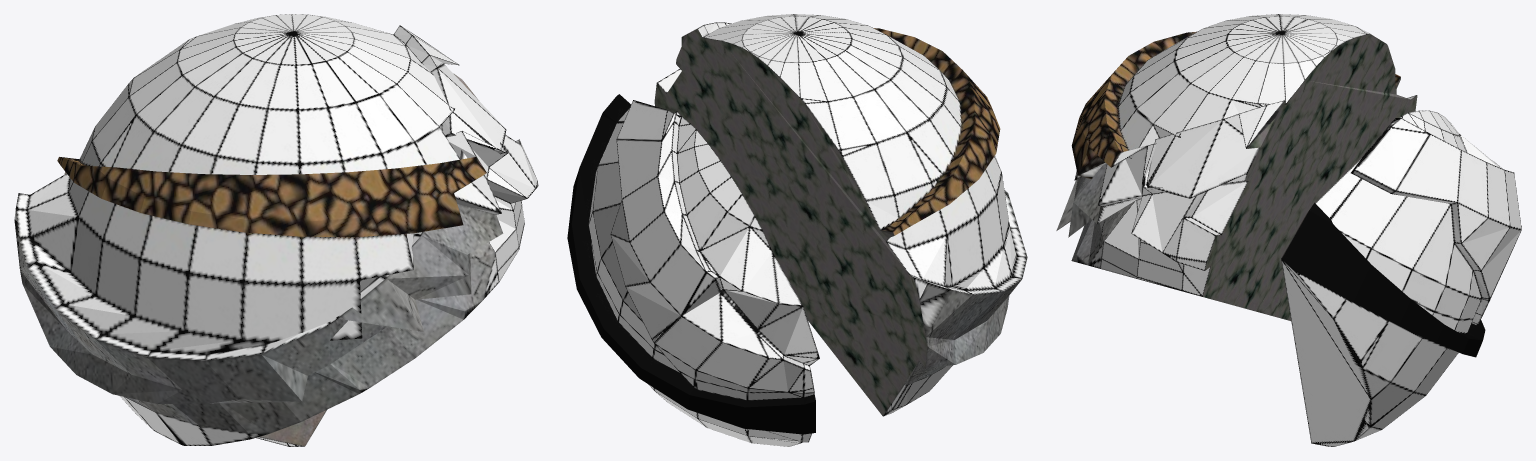
The model's file is LinkPirateria.gltf.
3 views of the same model, side by side, from view 1: azimuth 30°, elevation 25°; view 2: azimuth 150°, elevation 25°; view 3: azimuth 270°, elevation 25° (orthographic). The views are drawn at different scales.
Parts seen in each view (by area): view 1: Esfera; view 2: Esfera; view 3: Esfera.
Boxes of the visible parts, x1,y1,x2,y2 form: Esfera: [14, 14, 538, 446]; Esfera: [567, 14, 1027, 446]; Esfera: [1056, 14, 1521, 446].
Bounding box in the file's own units: 1.81 × 1.68 × 1.78.
1 material, 1 textured.
